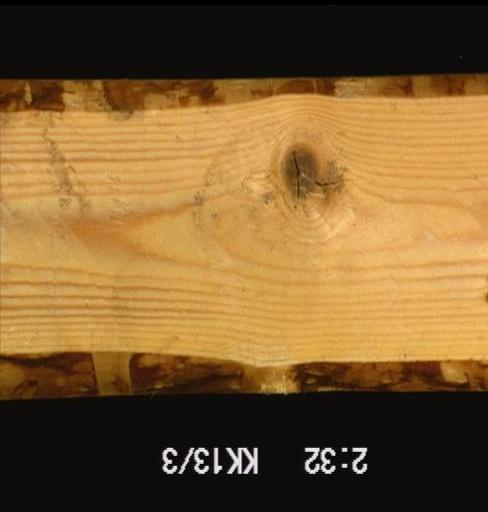sound_knot: (276, 144, 322, 206)
split: (298, 169, 359, 195)
wave: (0, 345, 486, 398), (0, 72, 486, 117)
